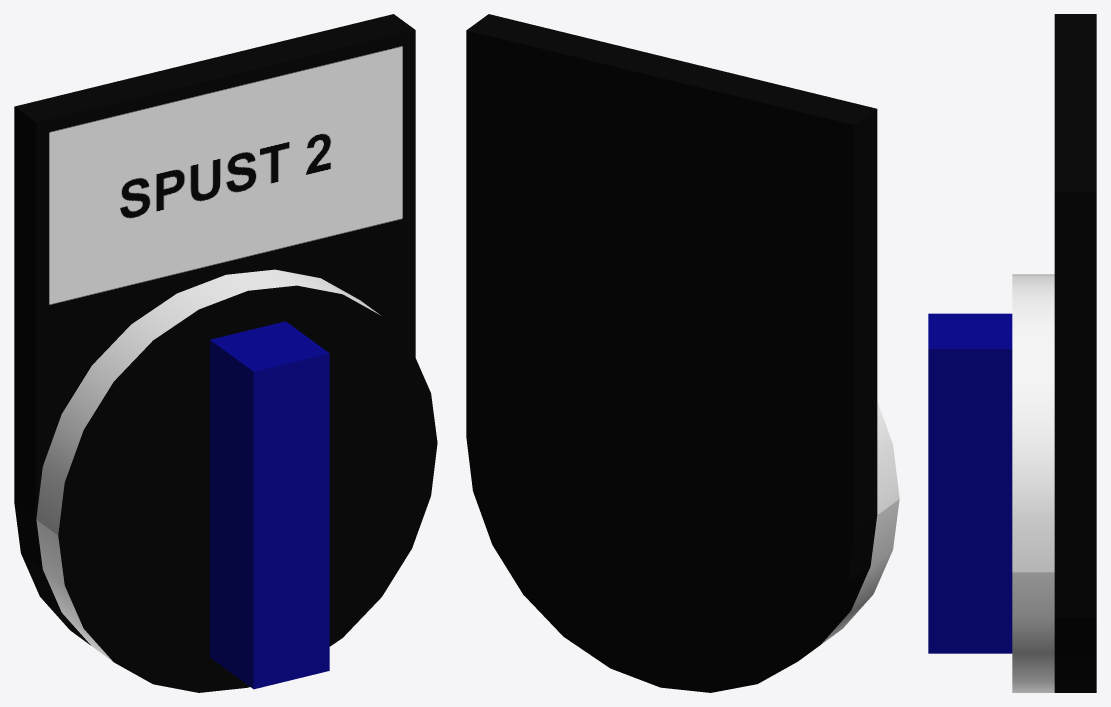
The model's file is Switcher-spust2.fbx.
3 renders of one model, left to right at view 1: azimuth 30°, elevation 25°; view 2: azimuth 150°, elevation 25°; view 3: azimuth 270°, elevation 25°, orthographic. The views are drawn at different scales.
Parts seen in each view (by area): view 1: Model; view 2: Model; view 3: Model.
Boxes of the visible parts, x1,y1,x2,y2 form: Model: (14,14,437,692); Model: (466,14,899,692); Model: (928,14,1096,692).
Size of the model in its own units: 0.1 by 0.15 by 0.04.
